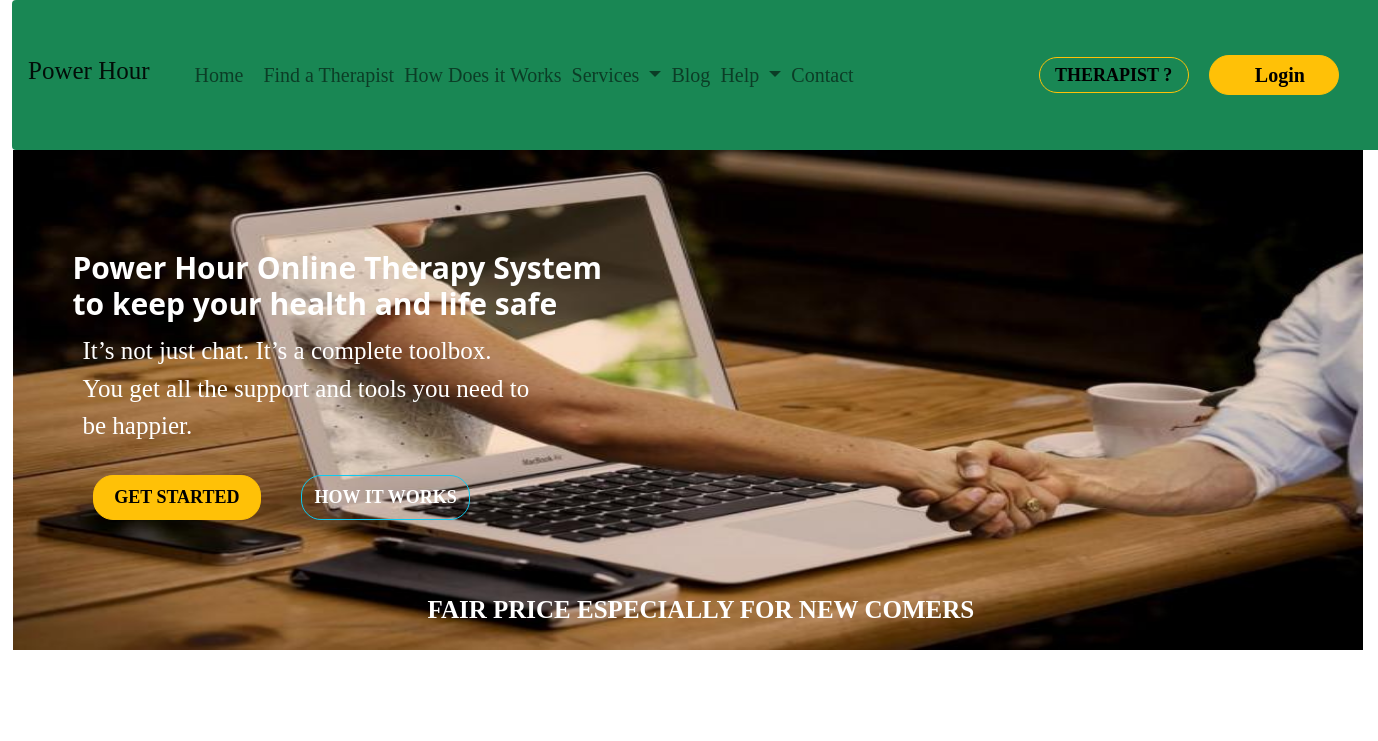
Test case: Login › TC_003 = check login with empty email and empty password
This screenshot has width=1378, height=741.
Click the button with id "login_btn".
click(1274, 75)  # box [1209,55,1339,95]
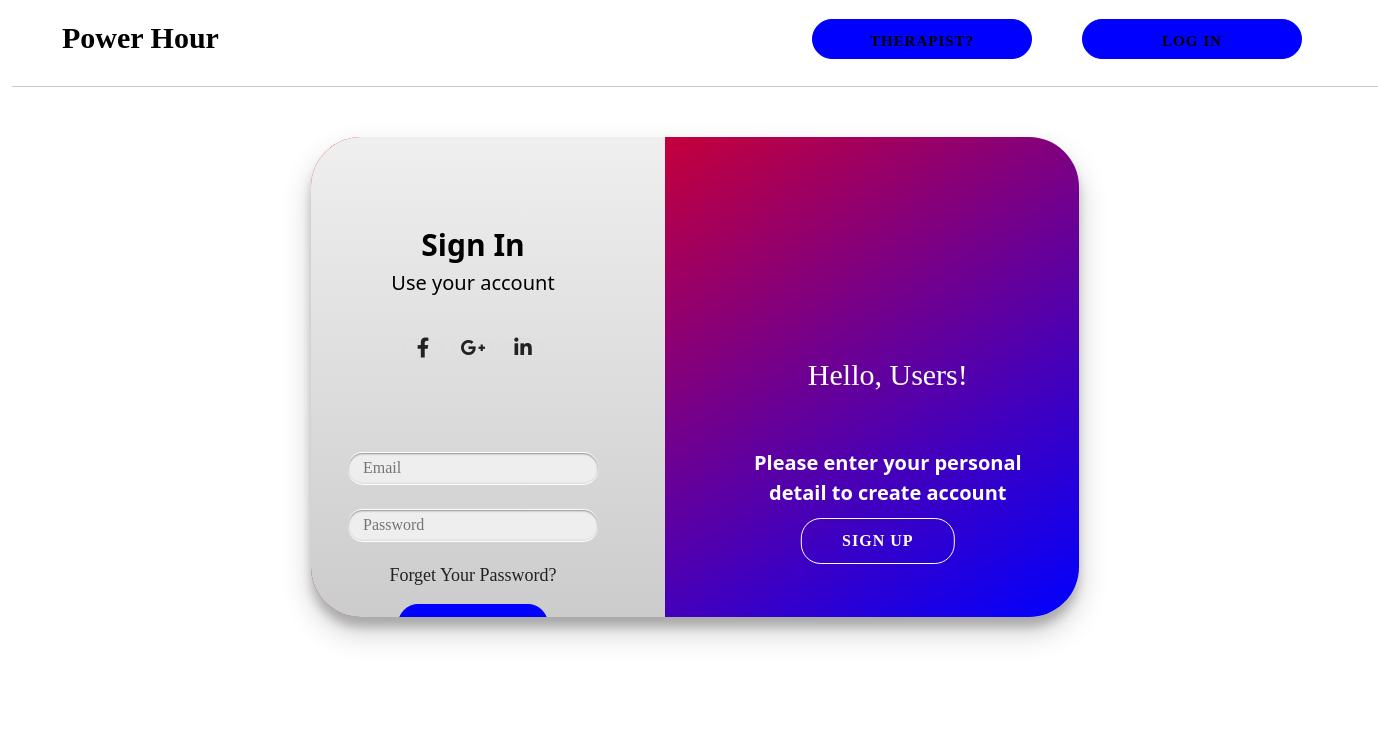
Scroll
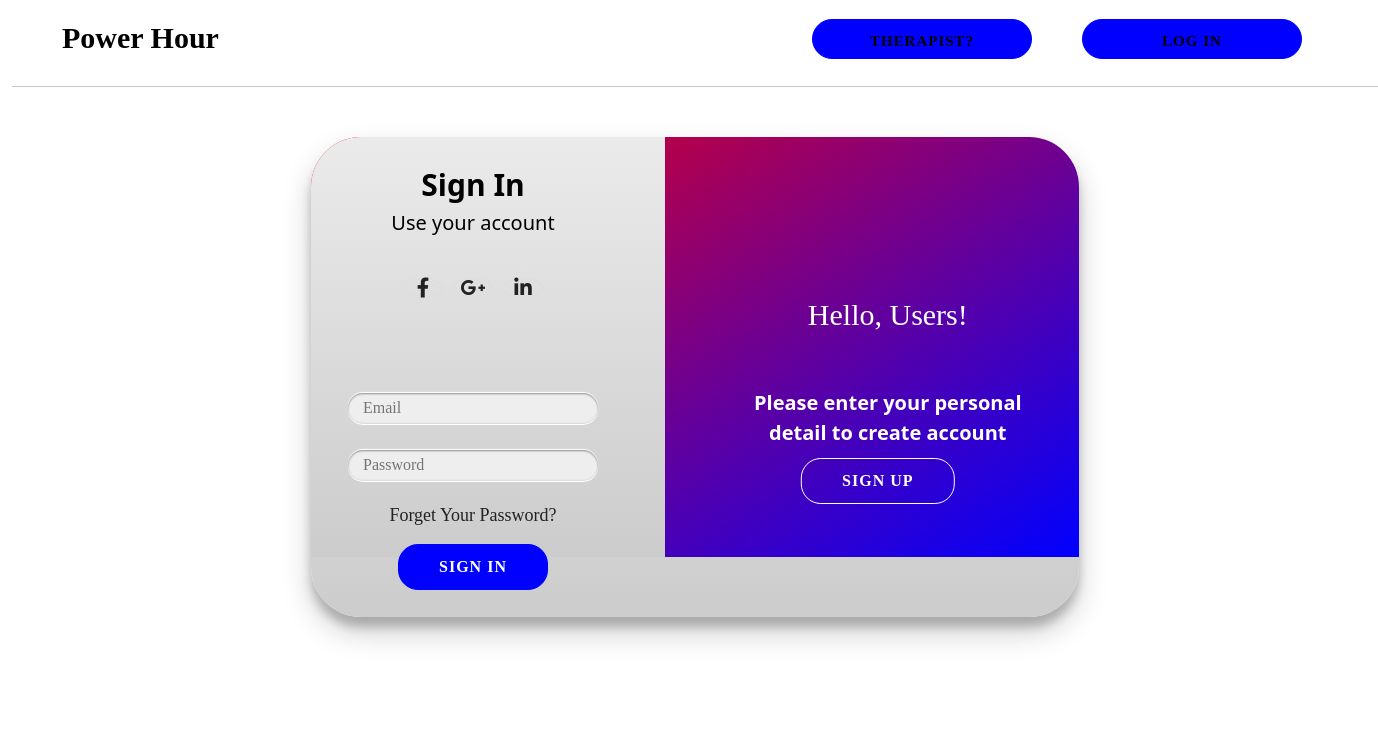
Click the button with test id "sign-in" showing "Sign In".
click(473, 567)  # box [398,544,548,590]
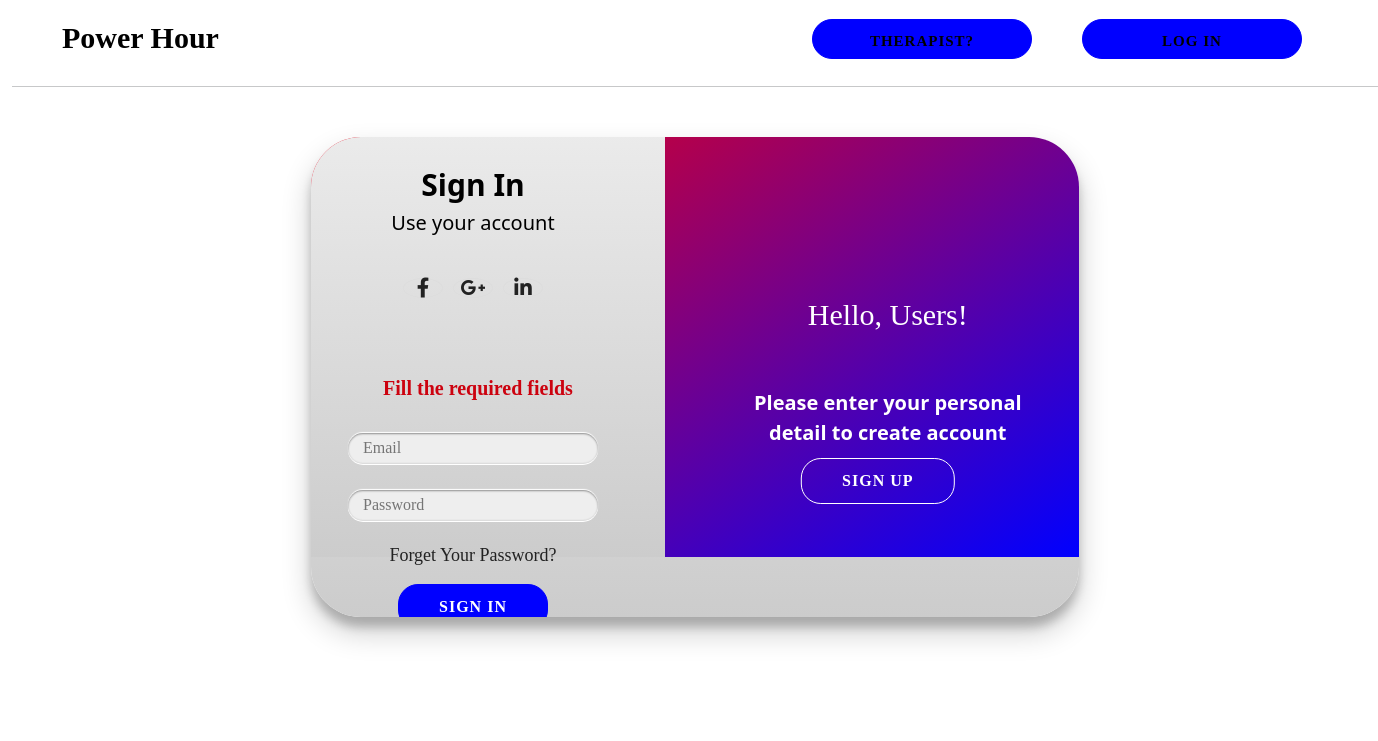
Check: the text "Fill the required fields" is shown, box [383,373,573,403]
